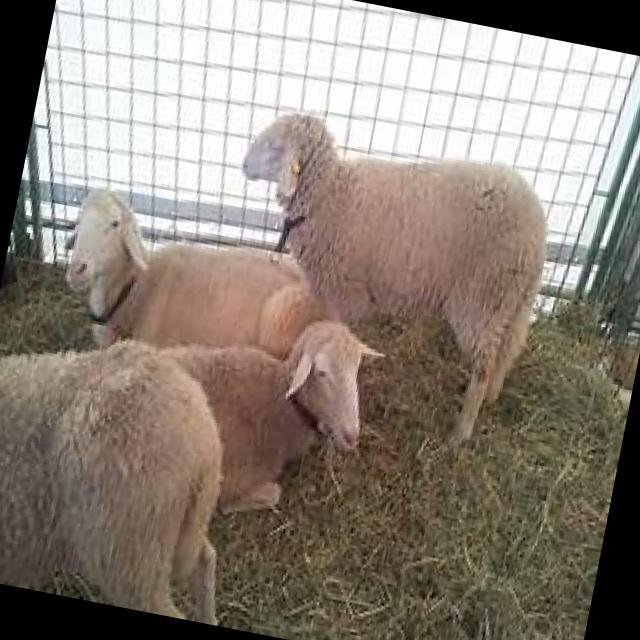sheep: (194, 100, 566, 468), (0, 314, 271, 624), (45, 181, 328, 384)
